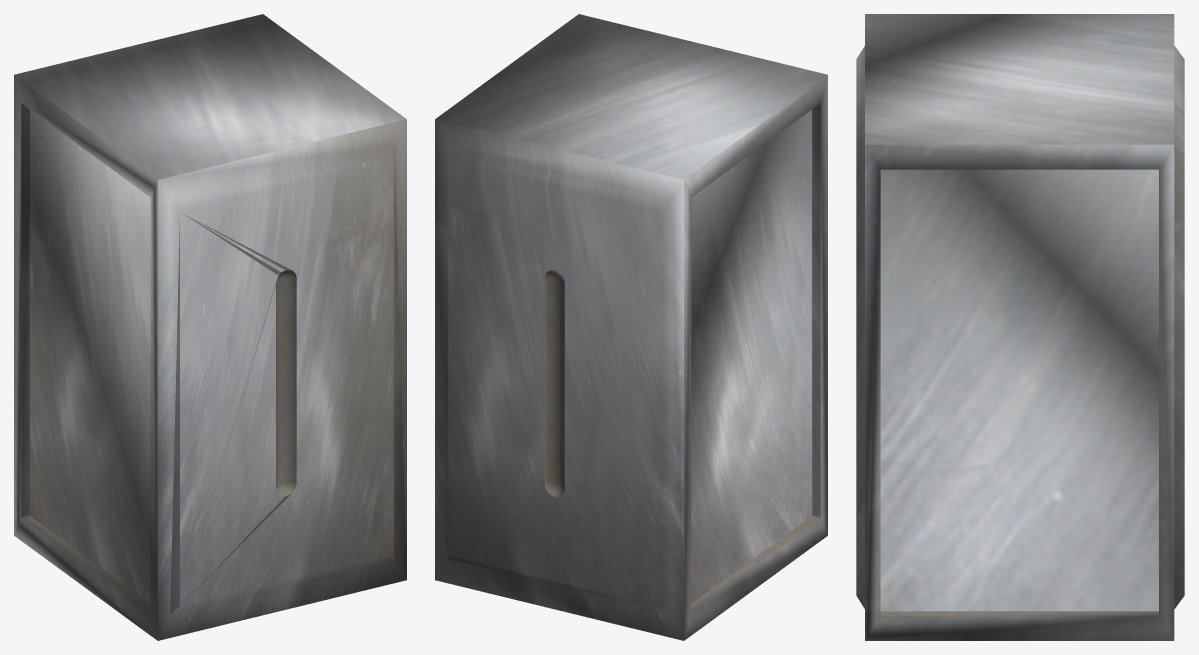
File: NapkinDespenser_Galley.obj
3 views of the same model, side by side, from view 1: azimuth 30°, elevation 25°; view 2: azimuth 150°, elevation 25°; view 3: azimuth 270°, elevation 25° (orthographic). The views are drawn at different scales.
Visible parts, largest first — view 1: NapkinDespenser_Galley.obj; view 2: NapkinDespenser_Galley.obj; view 3: NapkinDespenser_Galley.obj.
Boxes of the visible parts, x1=… form: NapkinDespenser_Galley.obj: x1=14, y1=14, x2=406, y2=640; NapkinDespenser_Galley.obj: x1=435, y1=14, x2=827, y2=640; NapkinDespenser_Galley.obj: x1=856, y1=14, x2=1184, y2=640.
Bounding box in the file's own units: 17.05 × 30.88 × 18.11.
